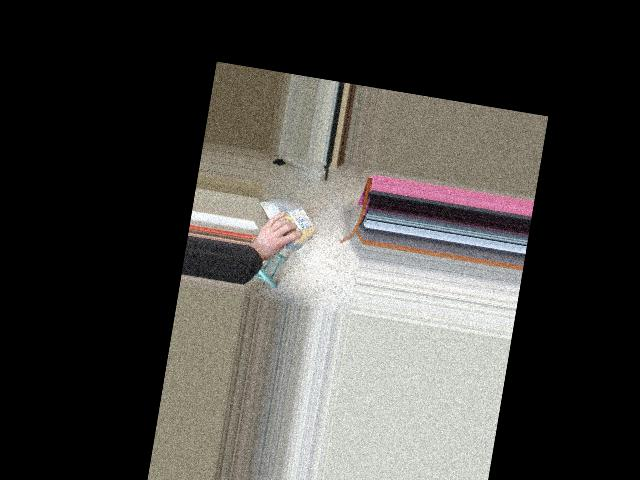cheese: (255, 197, 319, 249)
